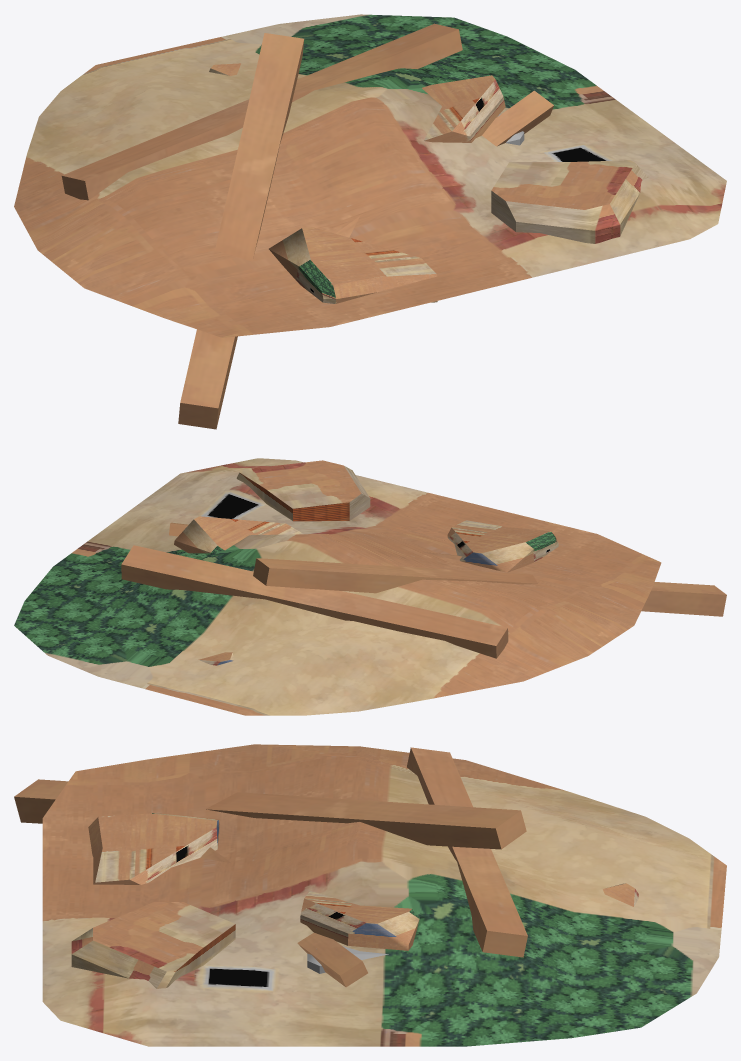
The model's file is SM_pile of debris.fbx.
3 views of the same model, one above another, from view 1: azimuth 30°, elevation 25°; view 2: azimuth 150°, elevation 25°; view 3: azimuth 270°, elevation 25° (orthographic). The views are drawn at different scales.
Visible parts, largest first — view 1: polySurface1070; view 2: polySurface1070; view 3: polySurface1070.
Boxes of the visible parts, box(x1,y1,x2,y2) form: polySurface1070: box(14, 14, 726, 429); polySurface1070: box(14, 458, 726, 715); polySurface1070: box(14, 744, 726, 1046).
Bounding box in the file's own units: 2.54 × 0.614 × 2.5.
